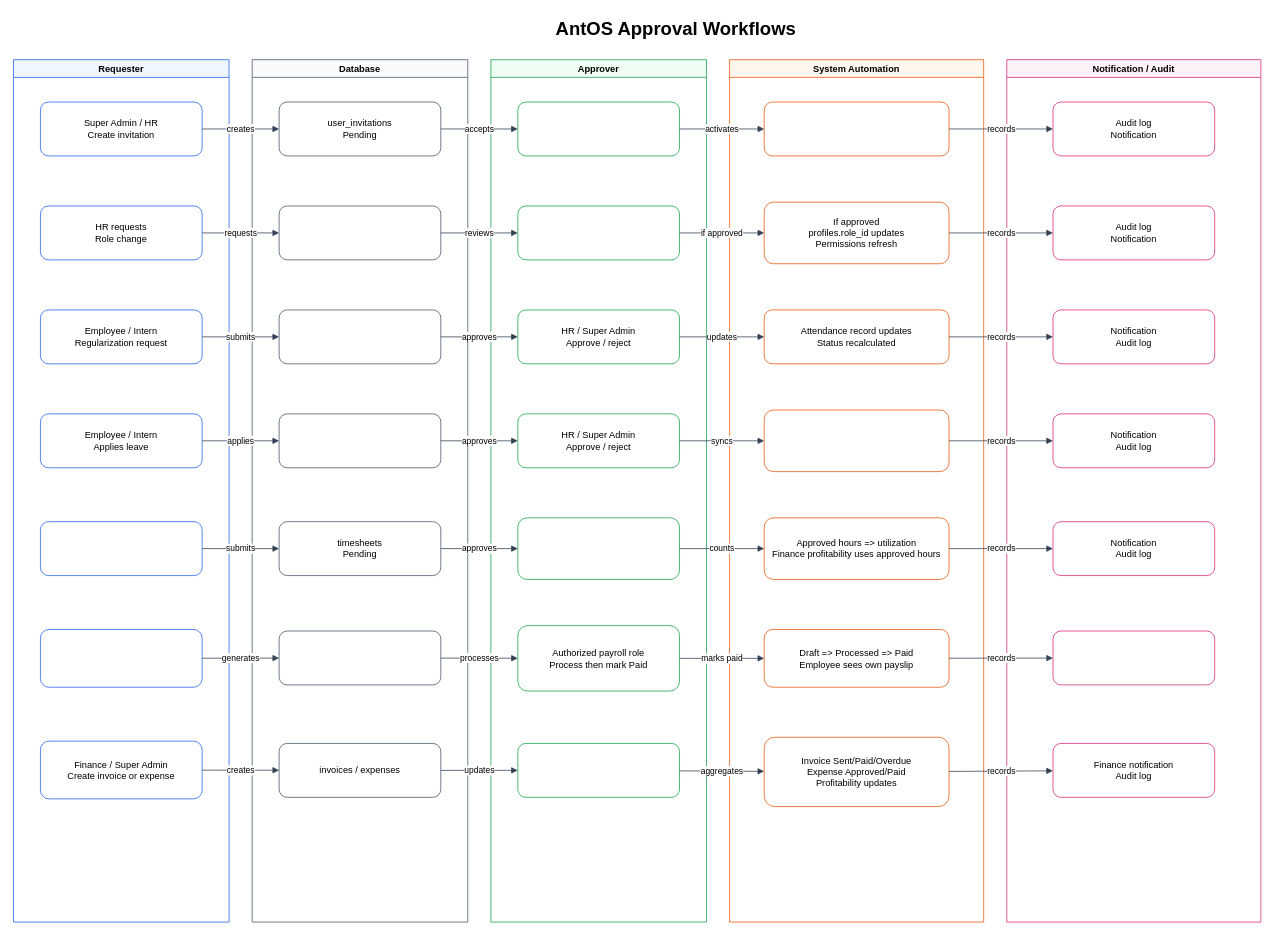
Image size: 1274x936. Some labels were removed from this diagram. Each missing label, with the centre of its shape:
Approved leave => attendance Leave Unpaid leave => LOP Payroll uses LOP: the point at 856,440
attendance regularization Pending: the point at 359,336
Employee / Intern Submits timesheet: the point at 121,548
Finance / Super Admin Set status: the point at 598,770
HR / Finance / Super Admin Generate payroll: the point at 121,658
leave_requests Pending: the point at 359,440
payroll Draft rows: the point at 359,657
Payroll notification Audit log: the point at 1133,657
Profile active Onboarding tasks created: the point at 856,128
Project Manager / Super Admin Approve / reject: the point at 598,548
role_change_requests Pending: the point at 359,232
Super Admin Approve / reject: the point at 598,232
User accepts invite Completes profile: the point at 598,128
